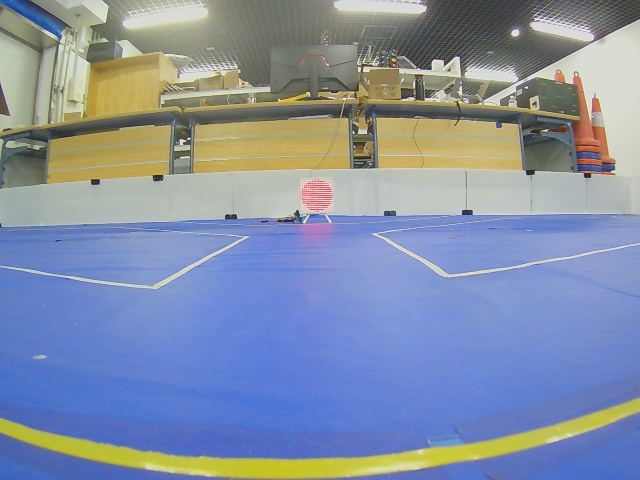red: (300, 178, 334, 213)
